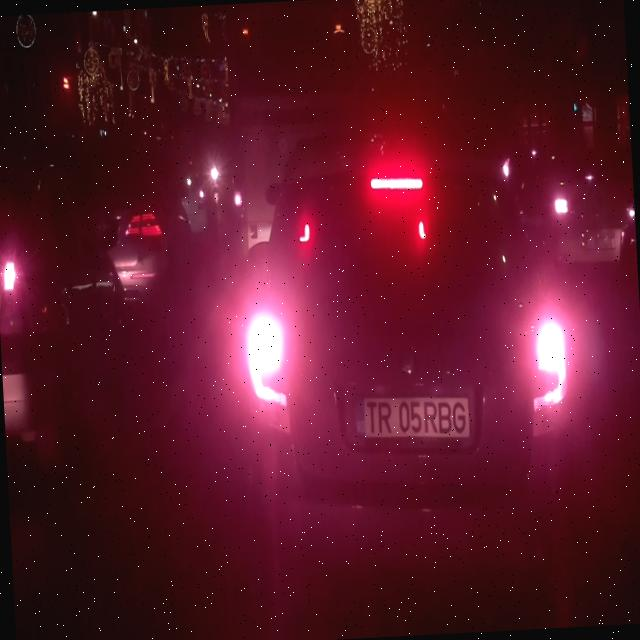EU: (347, 375, 479, 452)
Romanie: (353, 394, 366, 438)
